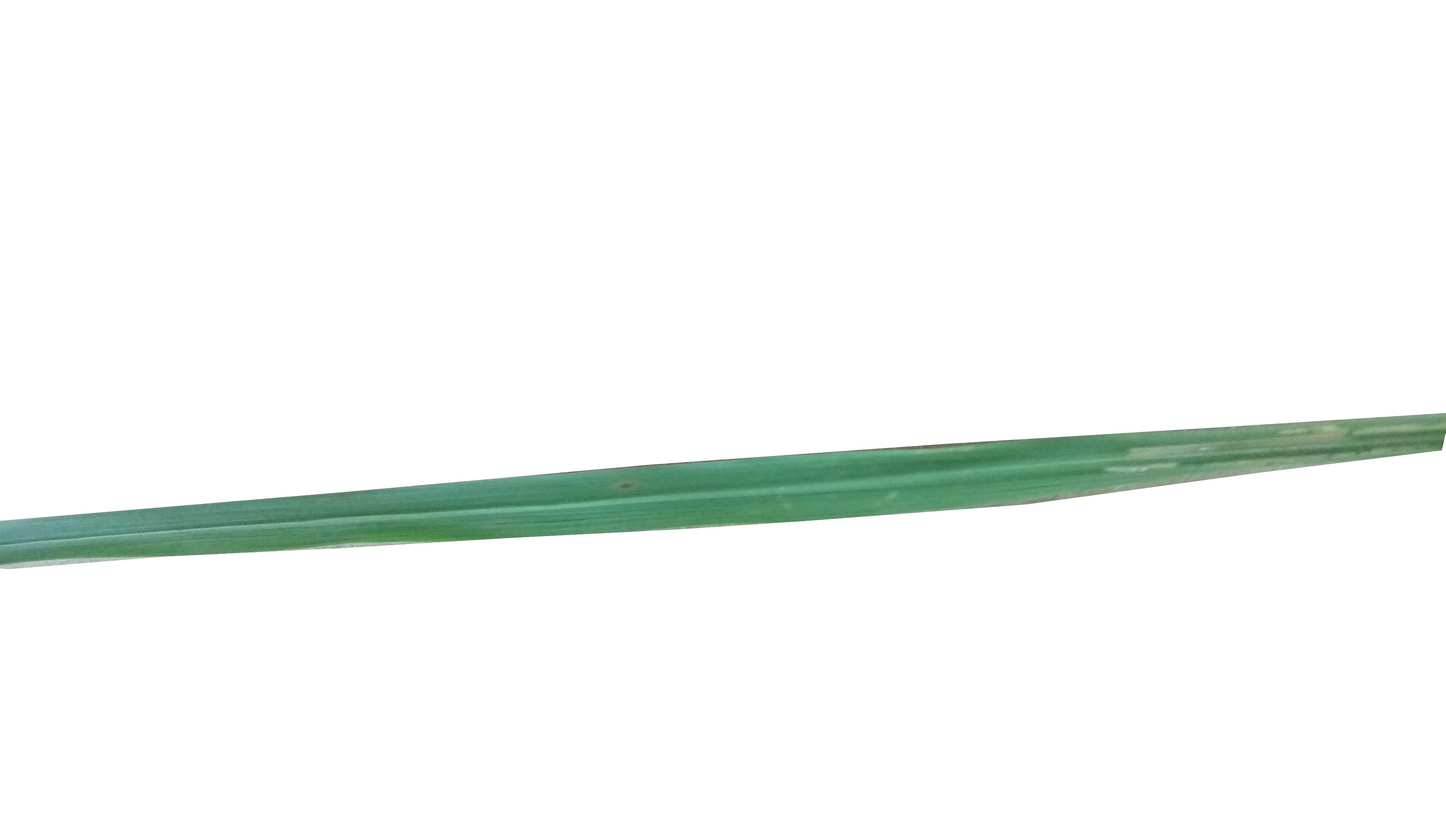Brown spot: (616, 472, 639, 499)
